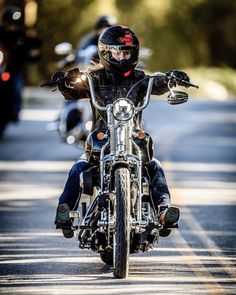helmet: (96, 25, 141, 70)
